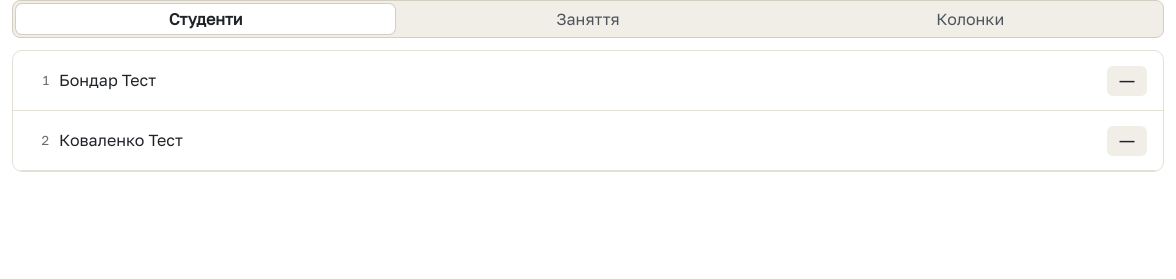
Test case: MobileJournal › без колонок — порожній стан із підказкою
Click the button "Колонки" at (970, 19), box [781,4,1160,34]
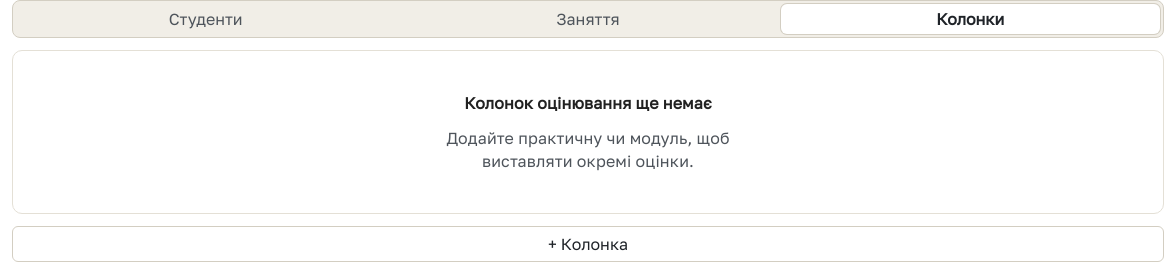
Result: the heading "Колонок оцінювання ще немає" is shown at [464,91,712,115]
